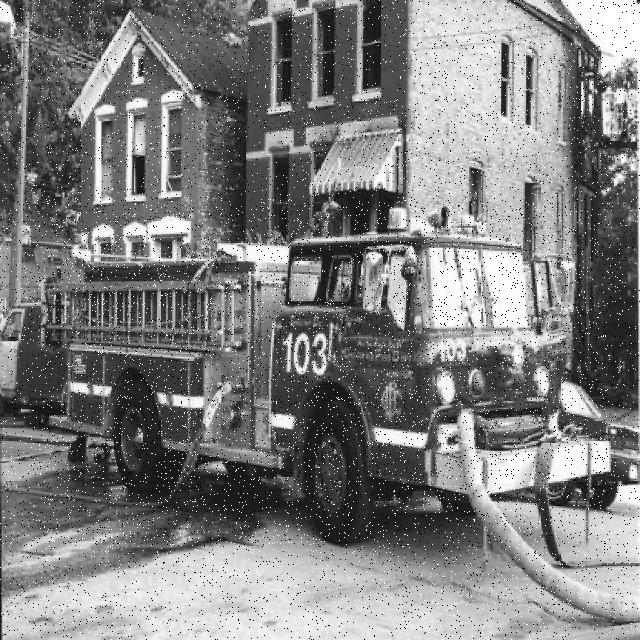Fire Truck: (39, 199, 613, 547)
